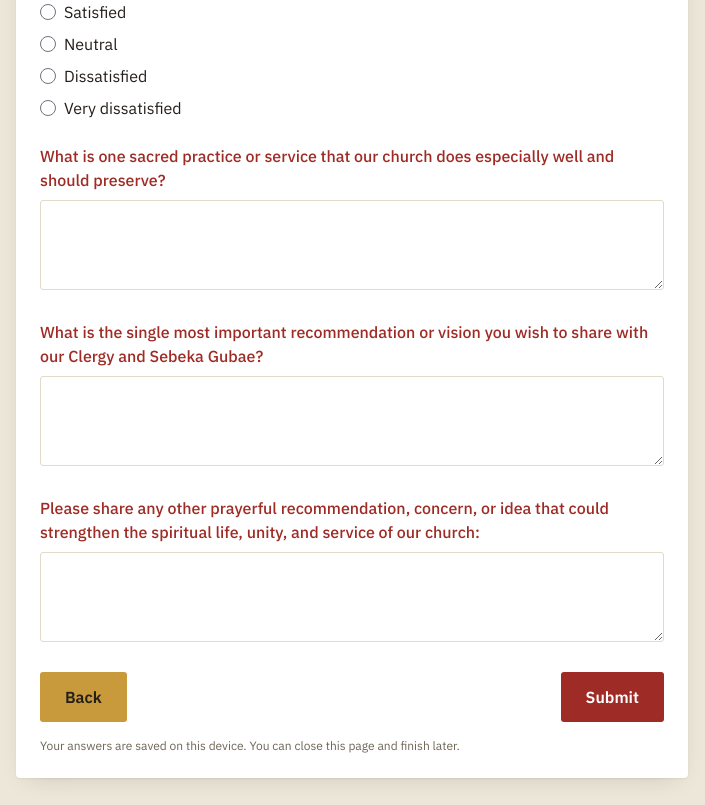
Test: SurveyPage › falls back to the generic error message when the failure carries no message
(page scrolled)
Click the button "Submit". click: (612, 697)
box: [561,672,664,722]
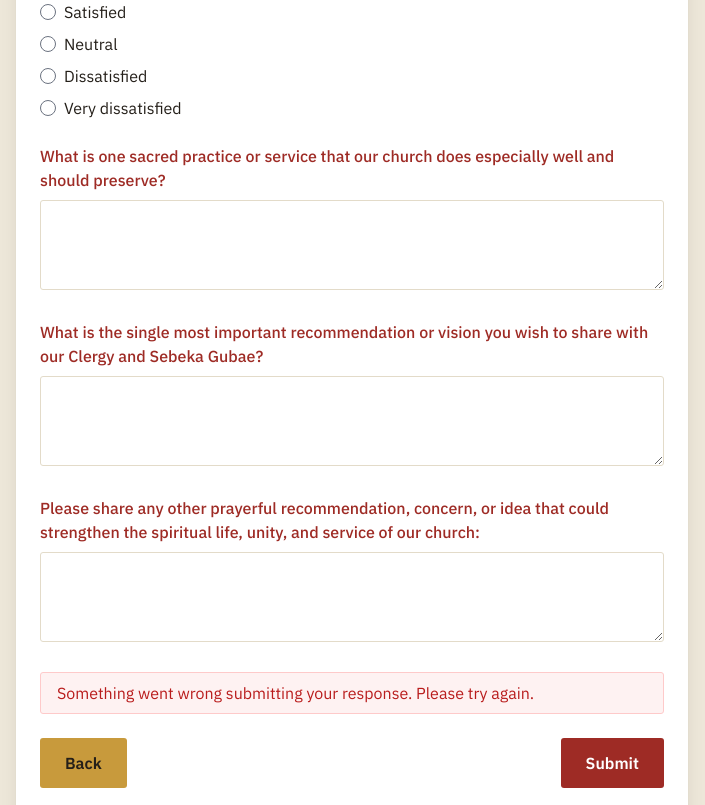
Check: the text "Something went wrong submitting your response. Please try again." is shown, box [40,672,664,714]
